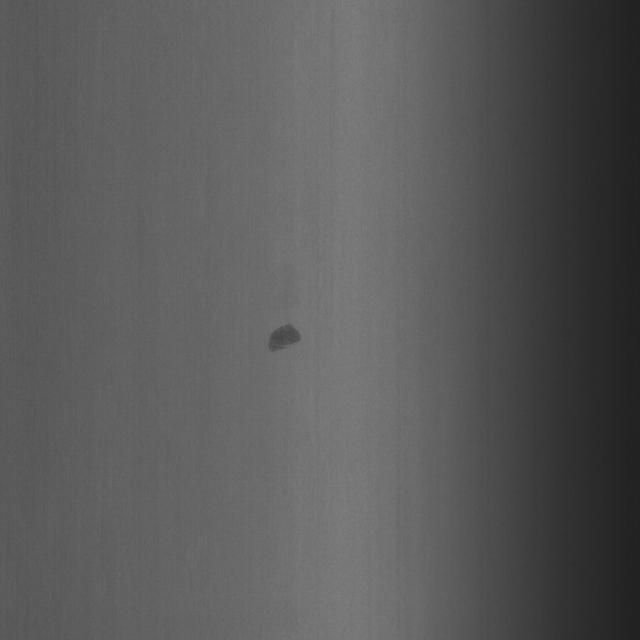welding_line: (263, 300, 312, 373)
